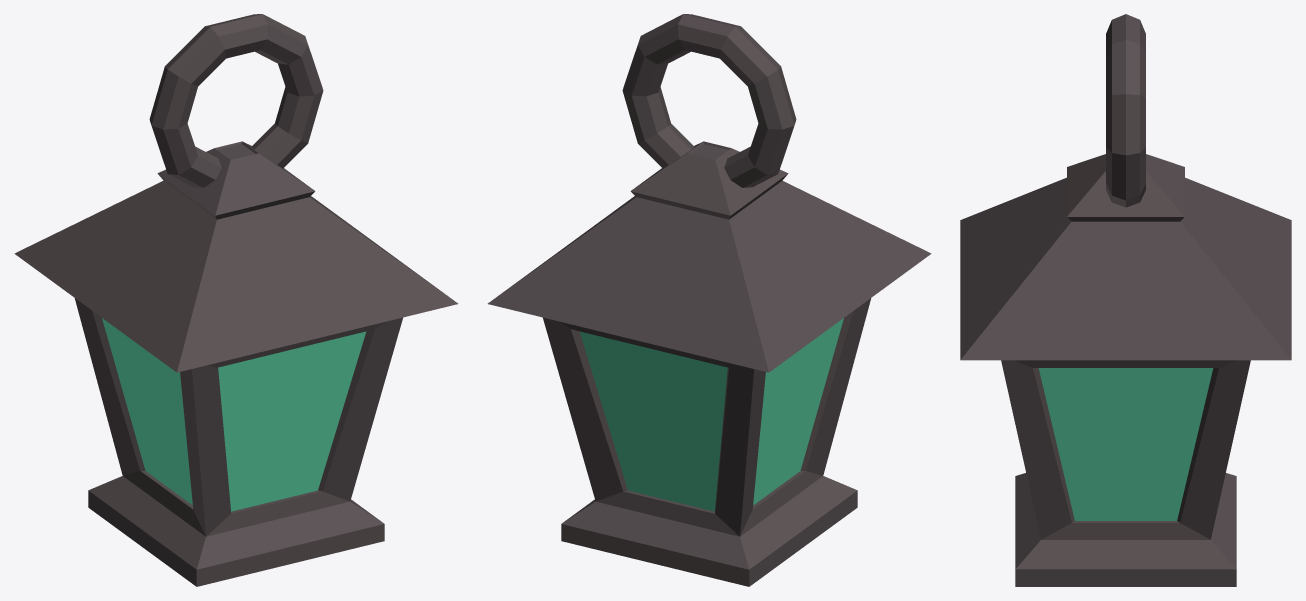
Rendered from lamp.fbx.
3 renders of one model, left to right at view 1: azimuth 30°, elevation 25°; view 2: azimuth 150°, elevation 25°; view 3: azimuth 270°, elevation 25°, orthographic.
Parts seen in each view (by area): view 1: Torus; view 2: Torus; view 3: Torus.
Boxes of the visible parts, <box> form: Torus: <box>14,14,458,586</box>; Torus: <box>487,14,931,586</box>; Torus: <box>960,14,1291,586</box>.
Size of the model in its own units: 102 by 175 by 102.
